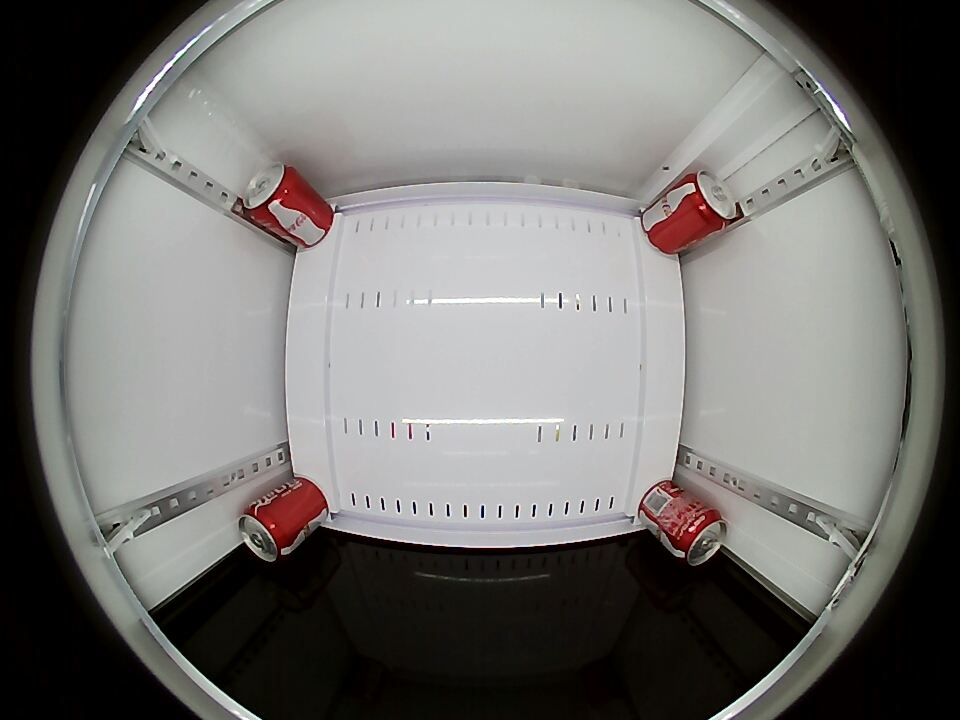kele: (240, 162, 300, 222), (681, 170, 739, 232), (237, 501, 293, 562), (672, 506, 728, 566)
